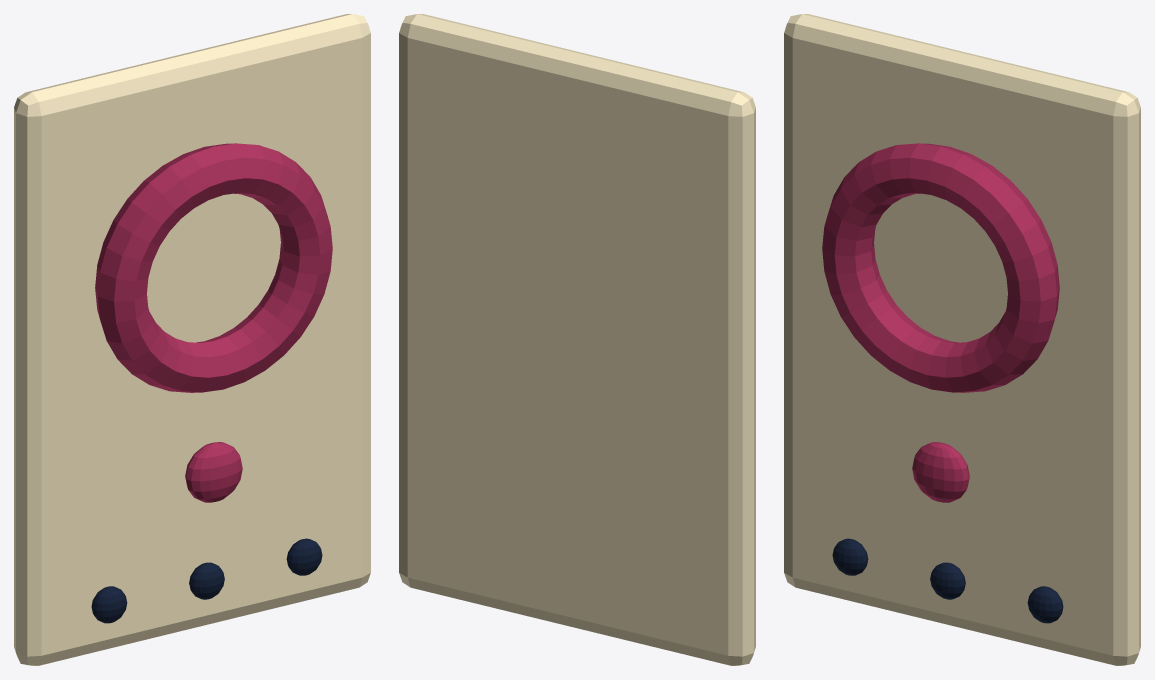
Rendered from Item_mystery_coupon.fbx.
3 renders of one model, left to right at view 1: azimuth 30°, elevation 25°; view 2: azimuth 150°, elevation 25°; view 3: azimuth 330°, elevation 25°, orthographic.
Visible parts, largest first — view 1: Item_mystery_coupon.Mesh; view 2: Item_mystery_coupon.Mesh; view 3: Item_mystery_coupon.Mesh.
Part boxes in pixels (<box>): Item_mystery_coupon.Mesh: <box>14,14,370,665</box>; Item_mystery_coupon.Mesh: <box>399,14,755,665</box>; Item_mystery_coupon.Mesh: <box>784,14,1140,665</box>.
Bounding box in the file's own units: 38 × 59 × 8.25.
